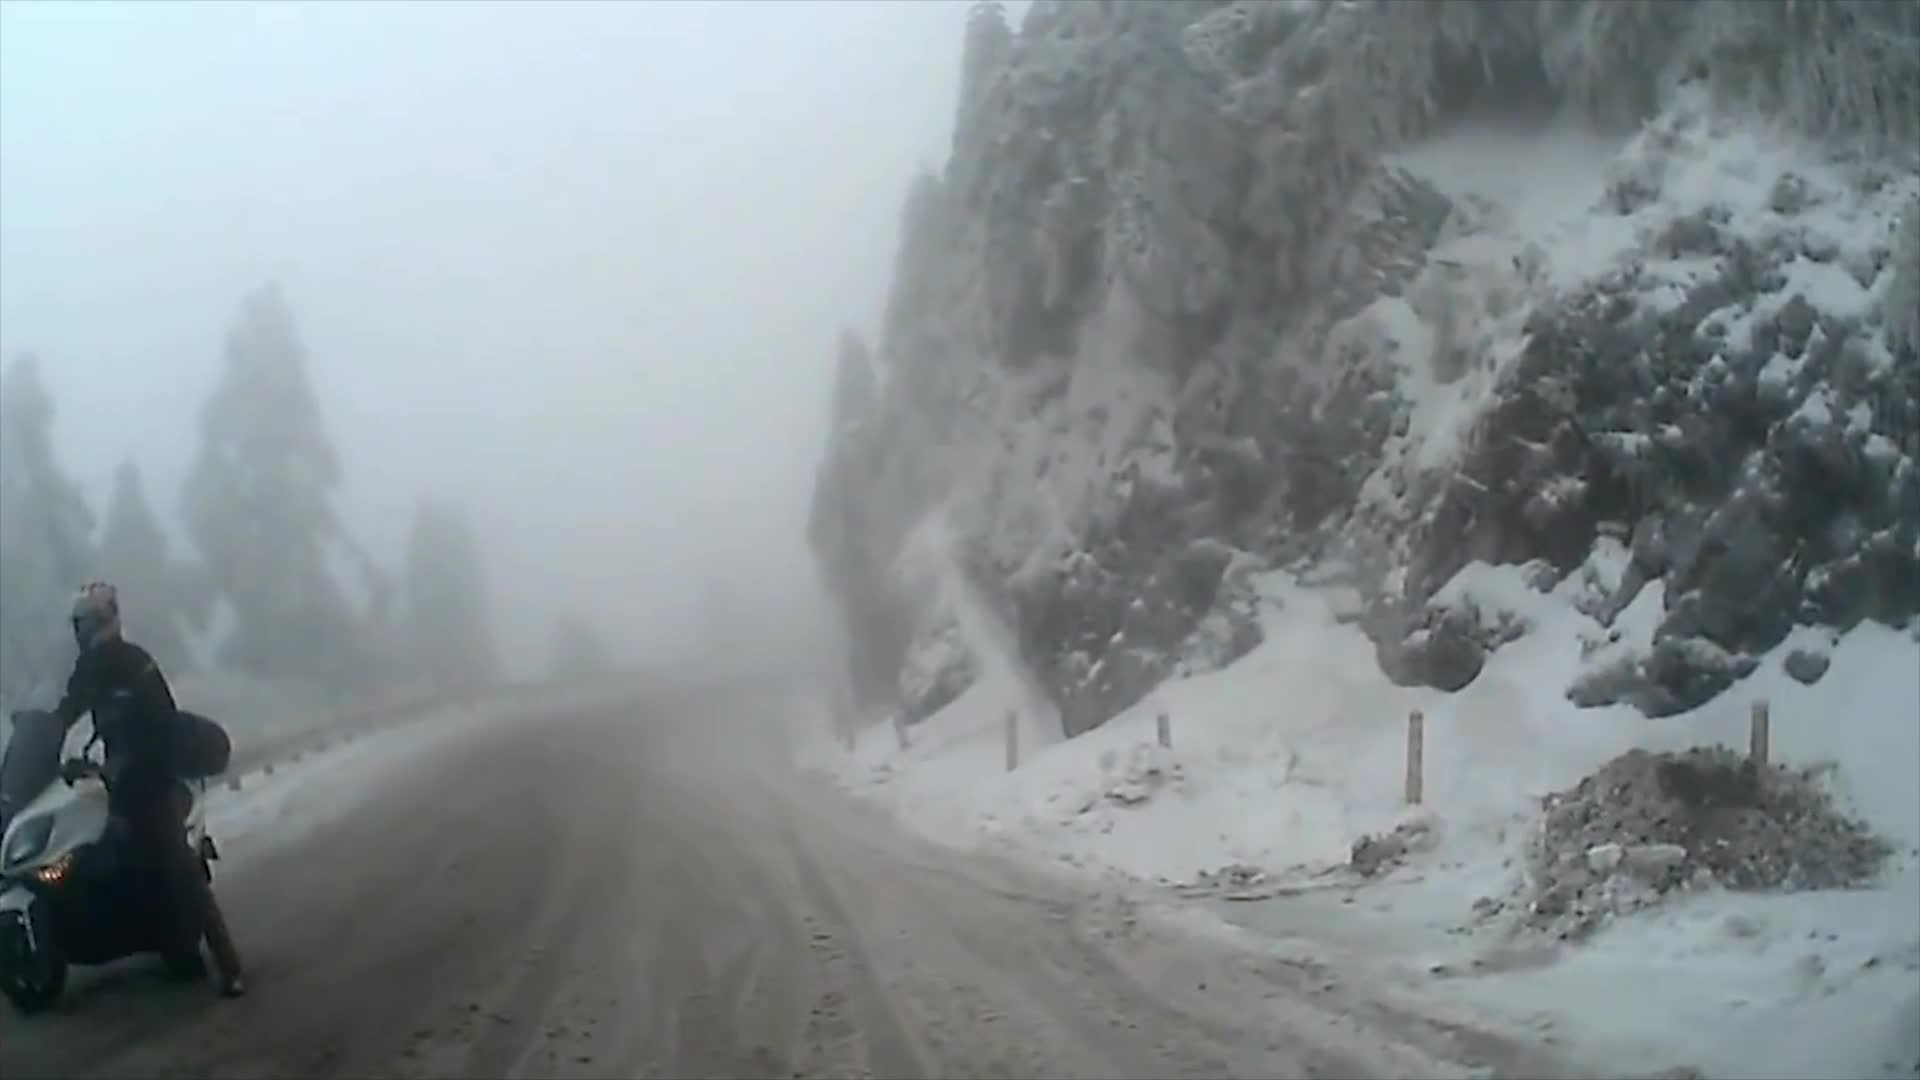pedestrian: (27, 578, 242, 990)
